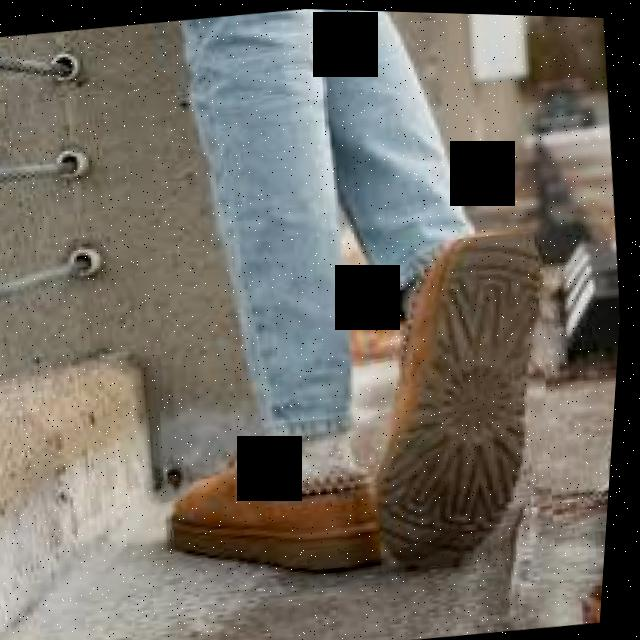shoe: (385, 230, 545, 562), (178, 441, 389, 570)
